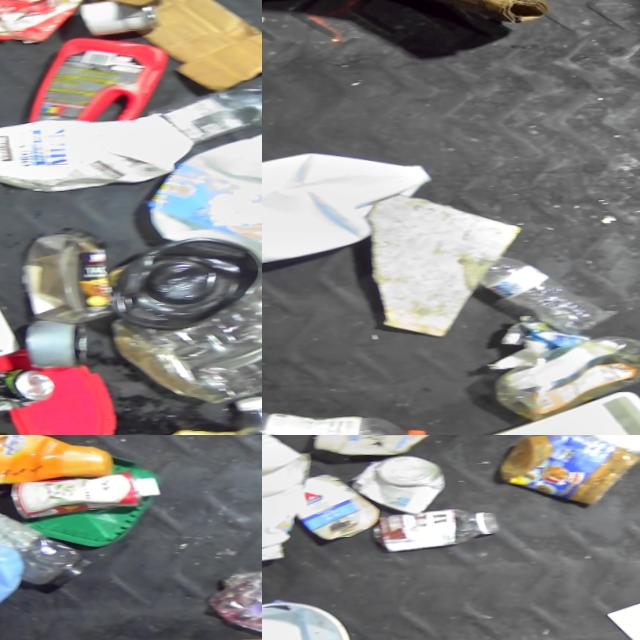can: (345, 453, 438, 517)
milk_jug: (262, 149, 435, 272), (262, 435, 309, 565)
plastic_bottle: (451, 241, 611, 339), (469, 332, 640, 423), (262, 403, 423, 435)
